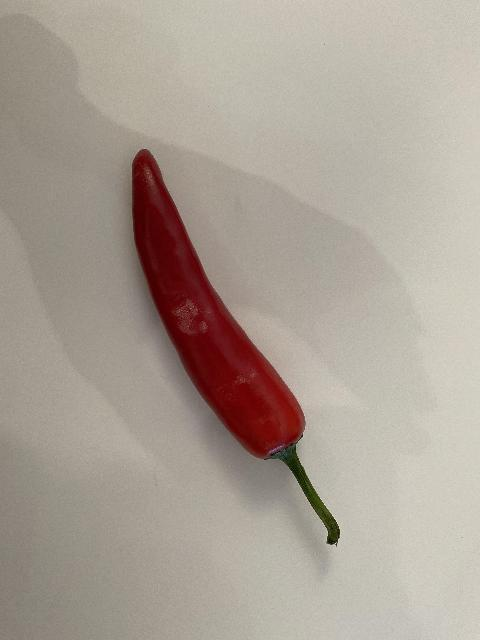chilli: (130, 147, 342, 547)
